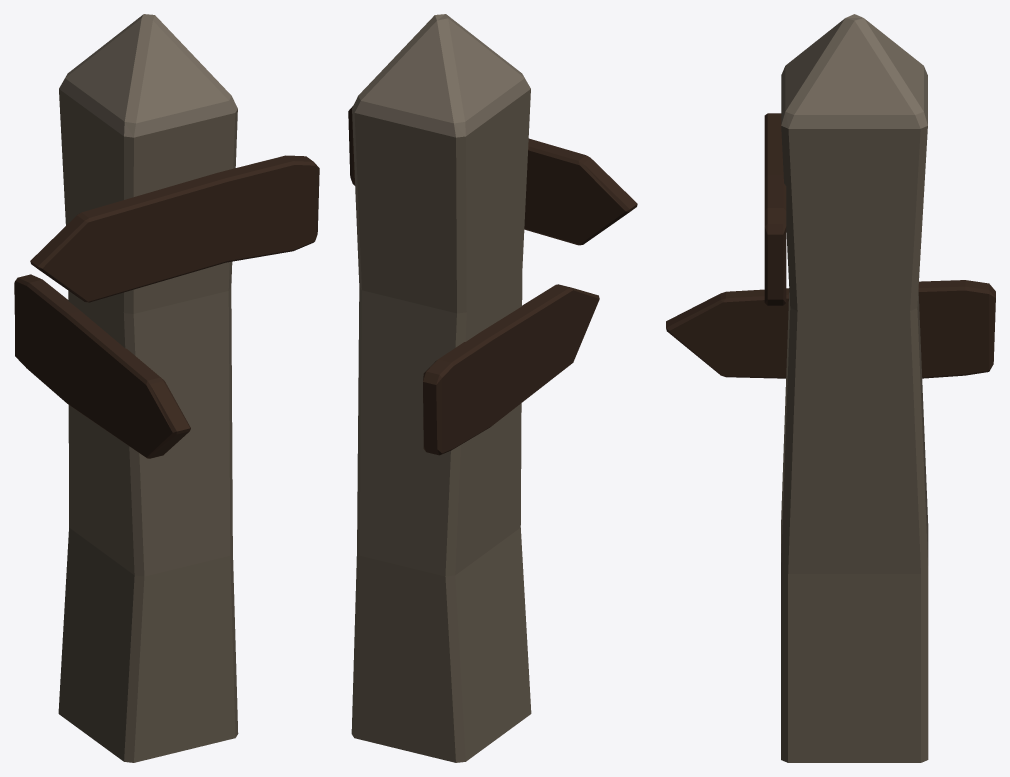
File: aSignPost0.obj
3 views of the same model, side by side, from view 1: azimuth 30°, elevation 25°; view 2: azimuth 150°, elevation 25°; view 3: azimuth 270°, elevation 25° (orthographic).
Visible parts, largest first — view 1: Signpost_01_Mesh.024; view 2: Signpost_01_Mesh.024; view 3: Signpost_01_Mesh.024.
Boxes of the visible parts, x1=… form: Signpost_01_Mesh.024: x1=14, y1=14, x2=319, y2=762; Signpost_01_Mesh.024: x1=348, y1=14, x2=637, y2=762; Signpost_01_Mesh.024: x1=666, y1=14, x2=995, y2=762.
Bounding box in the file's own units: 0.4523 × 1.08 × 0.4523.
